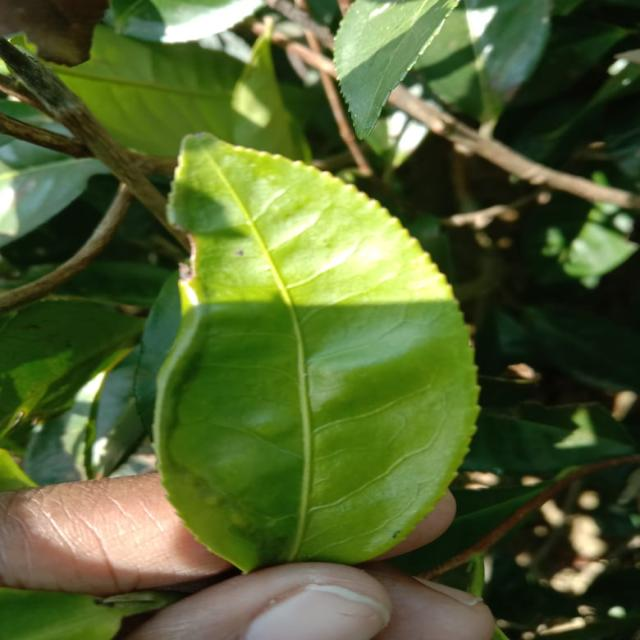Category B(2-4 days): (144, 122, 482, 572)
